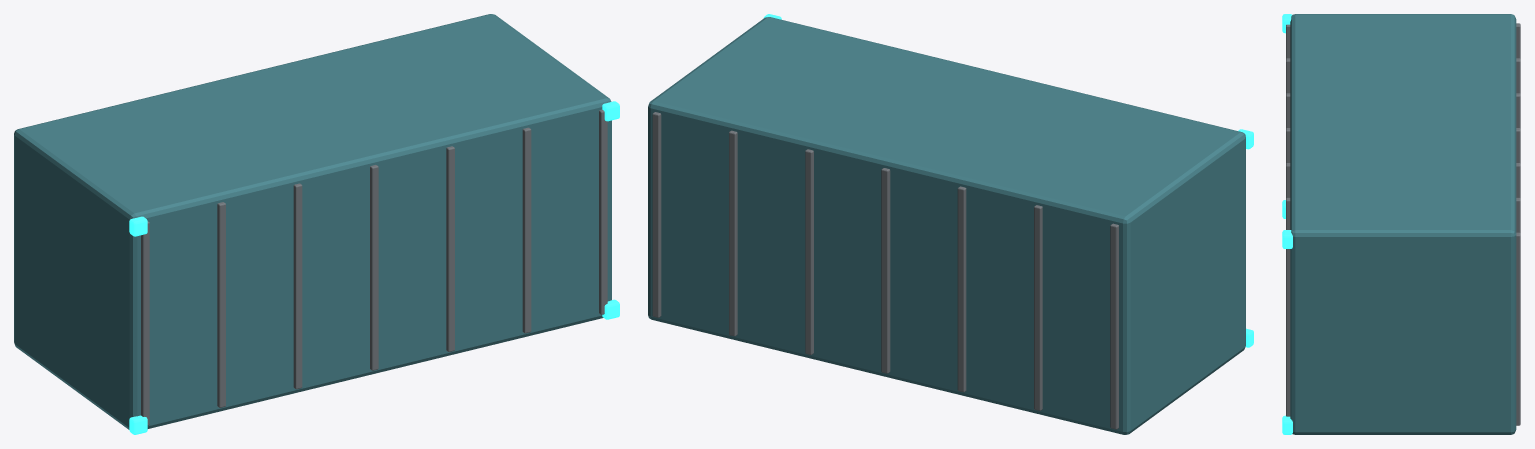
File: cargo_container.glb
3 renders of one model, left to right at view 1: azimuth 30°, elevation 25°; view 2: azimuth 150°, elevation 25°; view 3: azimuth 270°, elevation 25°, orthographic. The views are drawn at different scales.
Visible parts, largest first — view 1: Container hull, Rib.004, Rib.010, Rib.002, Rib.006, Rib.008, Rib.012, Rib; view 2: Container hull, Rib.005, Rib.007, Rib.013, Rib.011, Rib.003, Rib.001, Rib.009; view 3: Container hull, Rib.013, Rib.012.
Boxes of the visible parts, x1,y1,x2,y2 form: Container hull: (14,14,611,429); Rib.004: (293,183,302,389); Rib.010: (522,127,531,333); Rib.002: (217,202,225,407); Rib.006: (370,165,378,370); Rib.008: (446,146,454,351); Rib.012: (599,109,607,314); Rib: (141,221,149,425); Container hull: (648,17,1245,434); Rib.005: (957,186,966,392); Rib.007: (881,168,890,373); Rib.013: (652,112,661,317); Rib.011: (729,130,737,336); Rib.003: (1034,205,1042,410); Rib.001: (1110,223,1118,429); Rib.009: (805,149,813,354); Container hull: (1290,14,1516,434); Rib.013: (1516,232,1520,425); Rib.012: (1286,249,1290,416).
Size of the model in its own units: 6.06 by 2.6 by 2.74.
